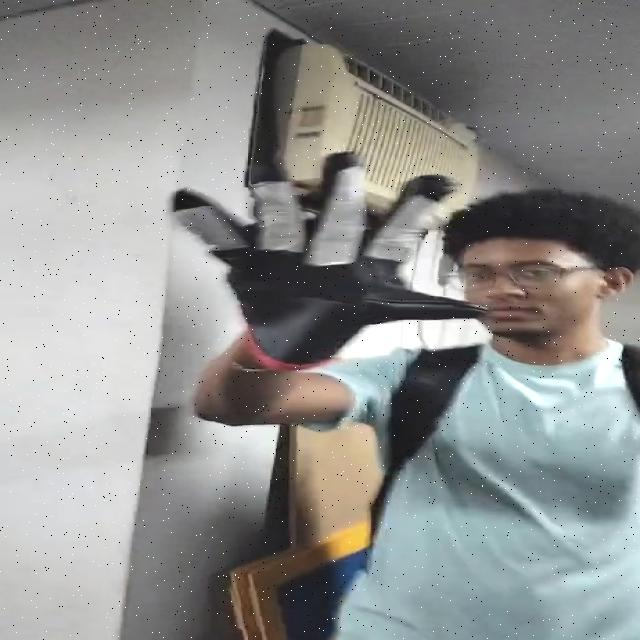Gloves: (161, 146, 494, 362)
